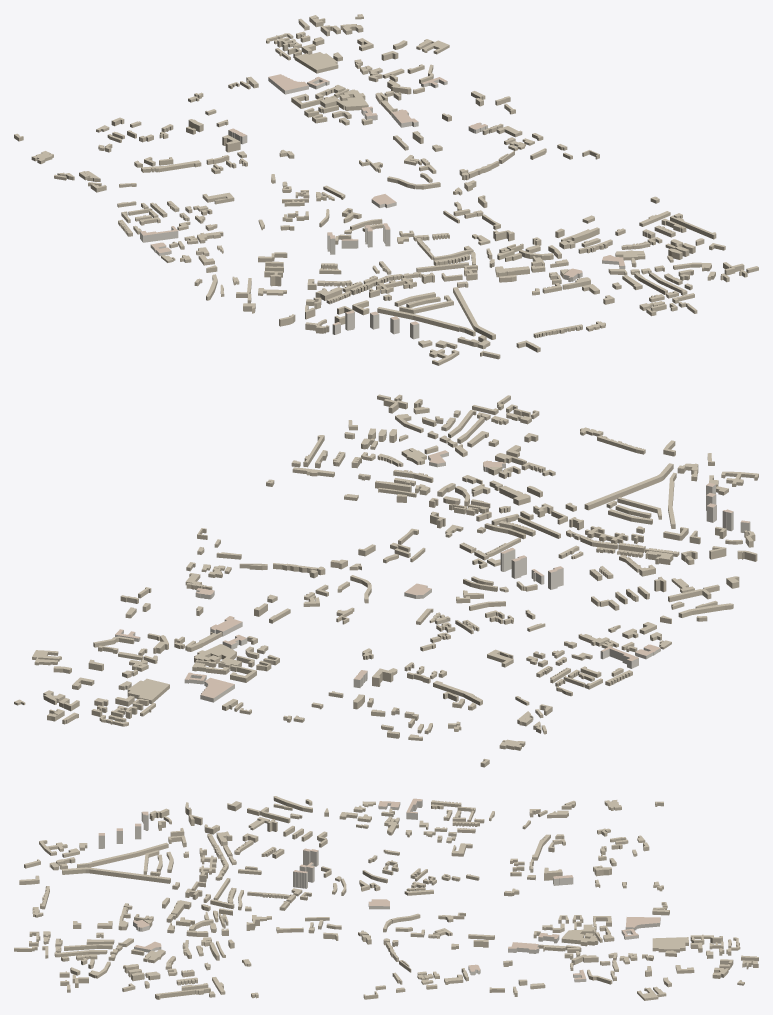
The picture shows the model from 3 angles, top to bottom: view 1: azimuth 30°, elevation 25°; view 2: azimuth 150°, elevation 25°; view 3: azimuth 270°, elevation 25°; orthographic projection. The views are drawn at different scales.
Size of the model in its own units: 1589 by 79.36 by 2491.
